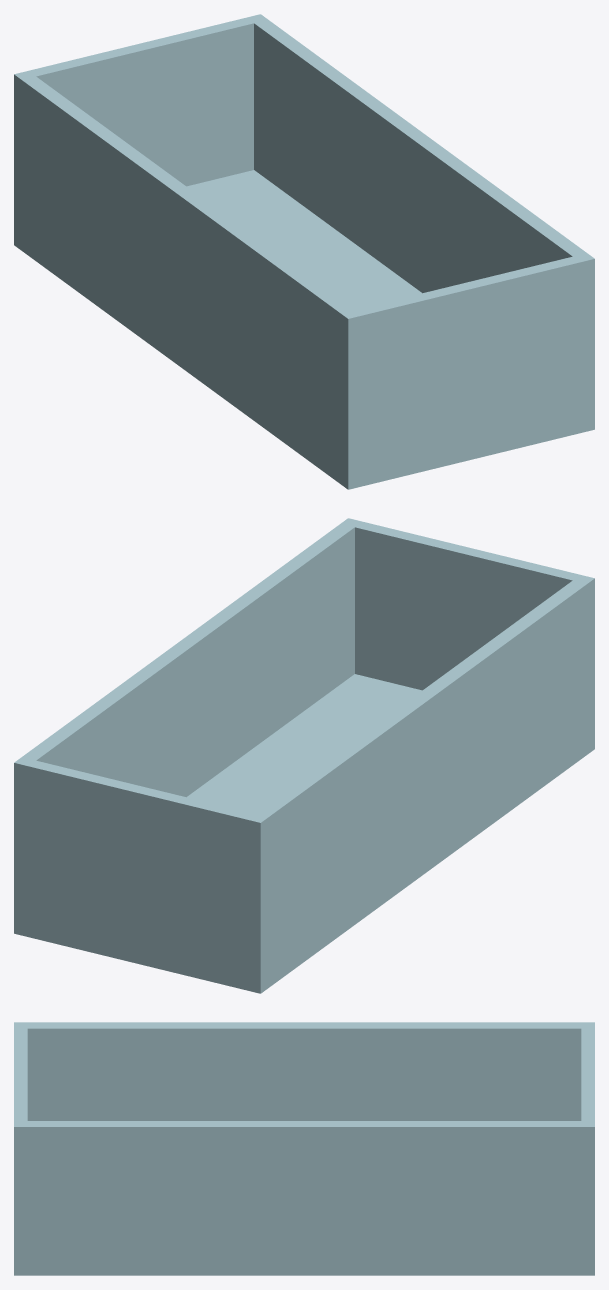
File: ToolBox_B.fbx
The picture shows the model from 3 angles, top to bottom: view 1: azimuth 30°, elevation 25°; view 2: azimuth 150°, elevation 25°; view 3: azimuth 270°, elevation 25°; orthographic projection. The views are drawn at different scales.
Visible parts, largest first — view 1: Cube.001; view 2: Cube.001; view 3: Cube.001.
Boxes of the visible parts, x1,y1,x2,y2 form: Cube.001: [14, 14, 594, 489]; Cube.001: [14, 518, 594, 993]; Cube.001: [14, 1022, 594, 1275].
Bounding box in the file's own units: 193 × 128 × 453.
